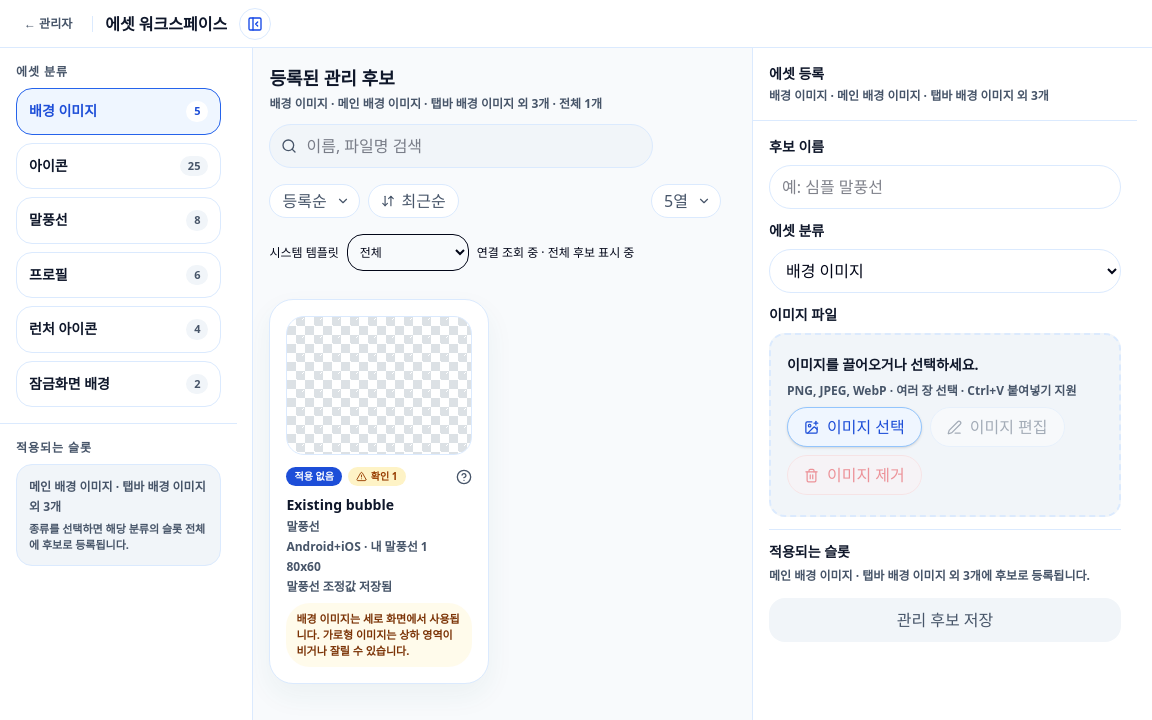
Test: admin asset paste › activates change saving only while the title differs from the saved value
Click the button named "에셋 상세 보기": (379, 492) [270,300,488,683]
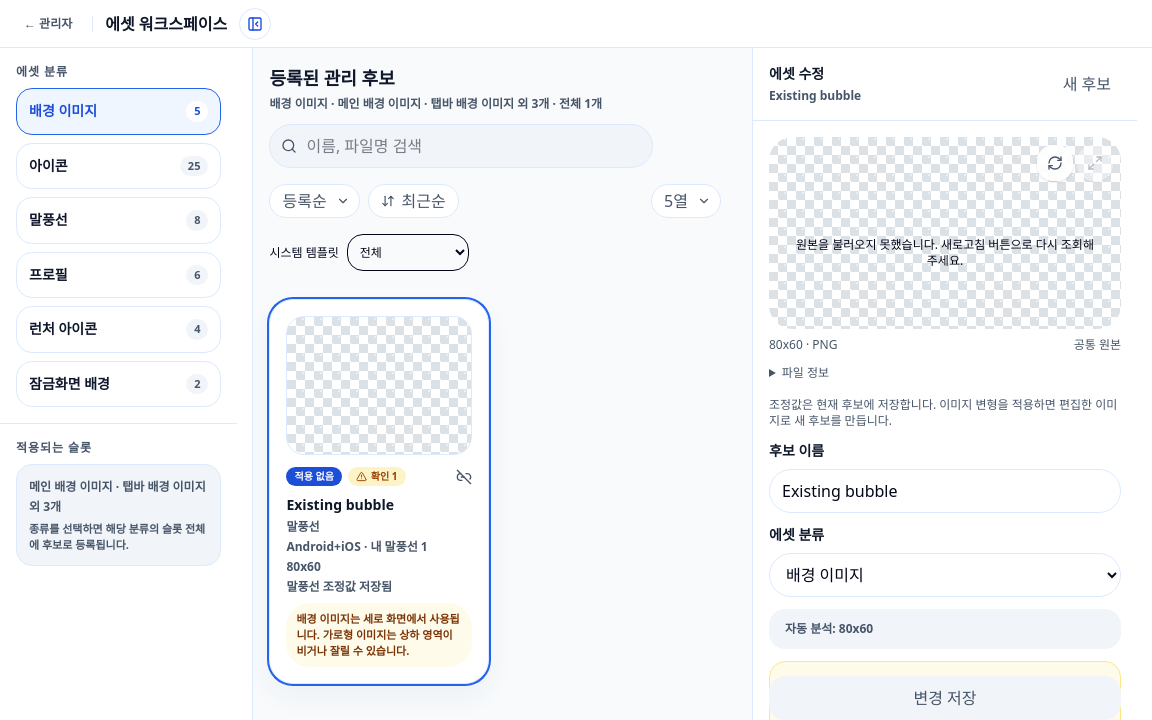
Expected: the button "변경 저장" is disabled, [769,676,1121,719]
Replace the text in the field labelled "후보 이름" with "Changed": (945, 491) [769,469,1121,513]
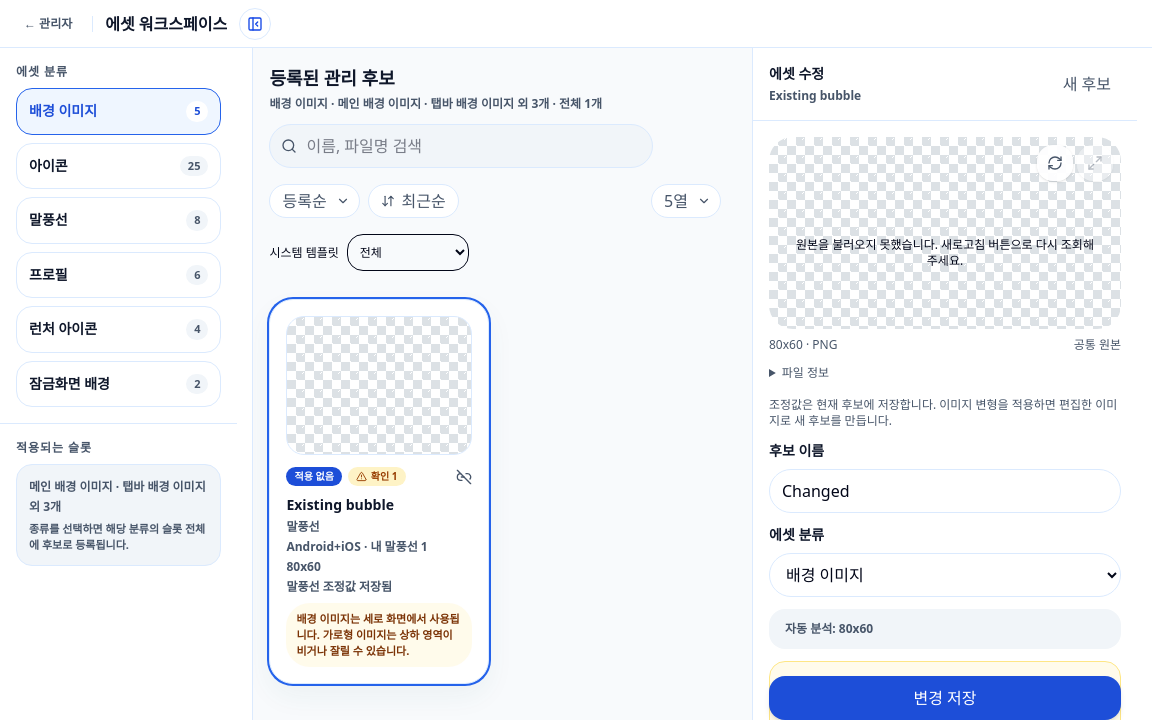
Result: the button "변경 저장" is enabled at [769,676,1121,719]
Replace the text in the field labelled "후보 이름" with "Existing bubble": (945, 491) [769,469,1121,513]
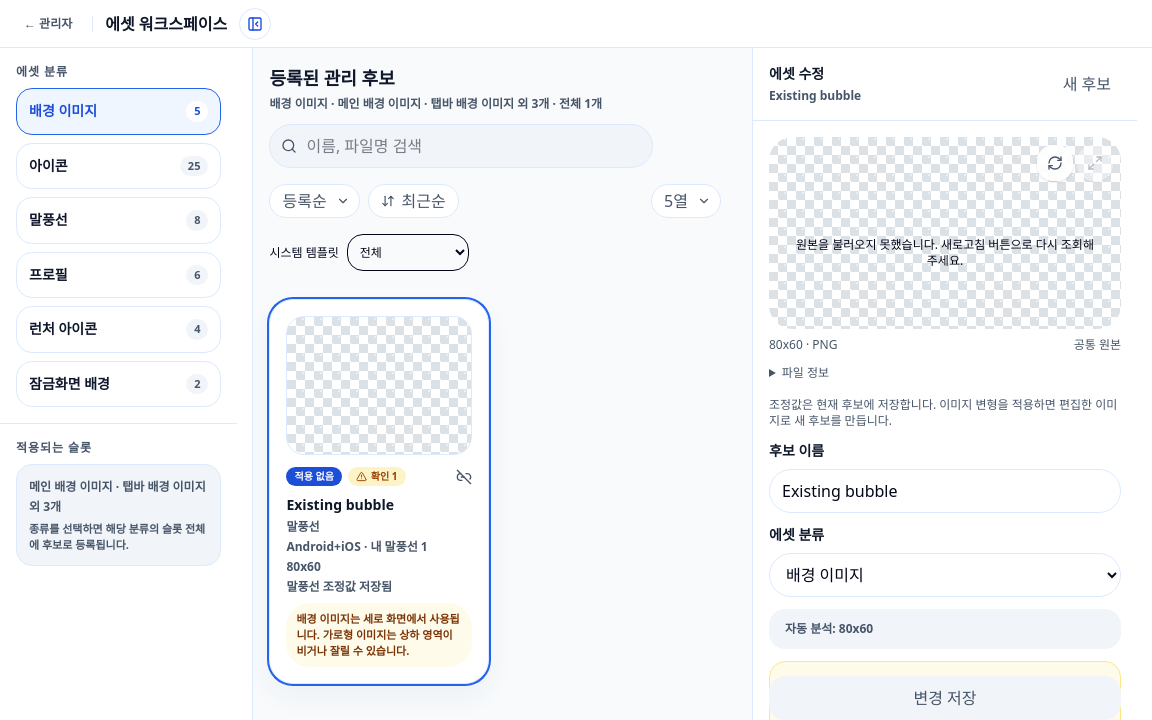
Result: the button "변경 저장" is disabled at [769,676,1121,719]
